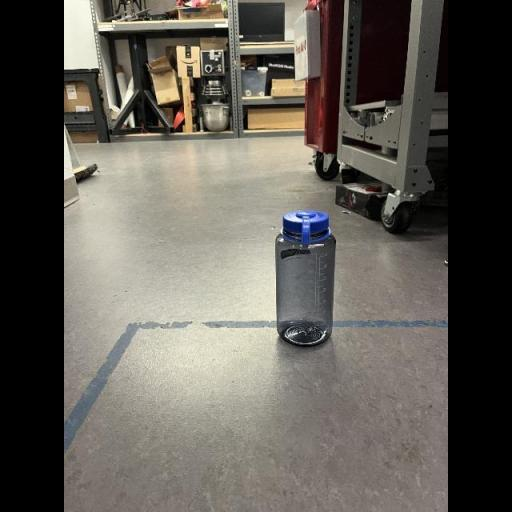bottle: (274, 210, 336, 350)
